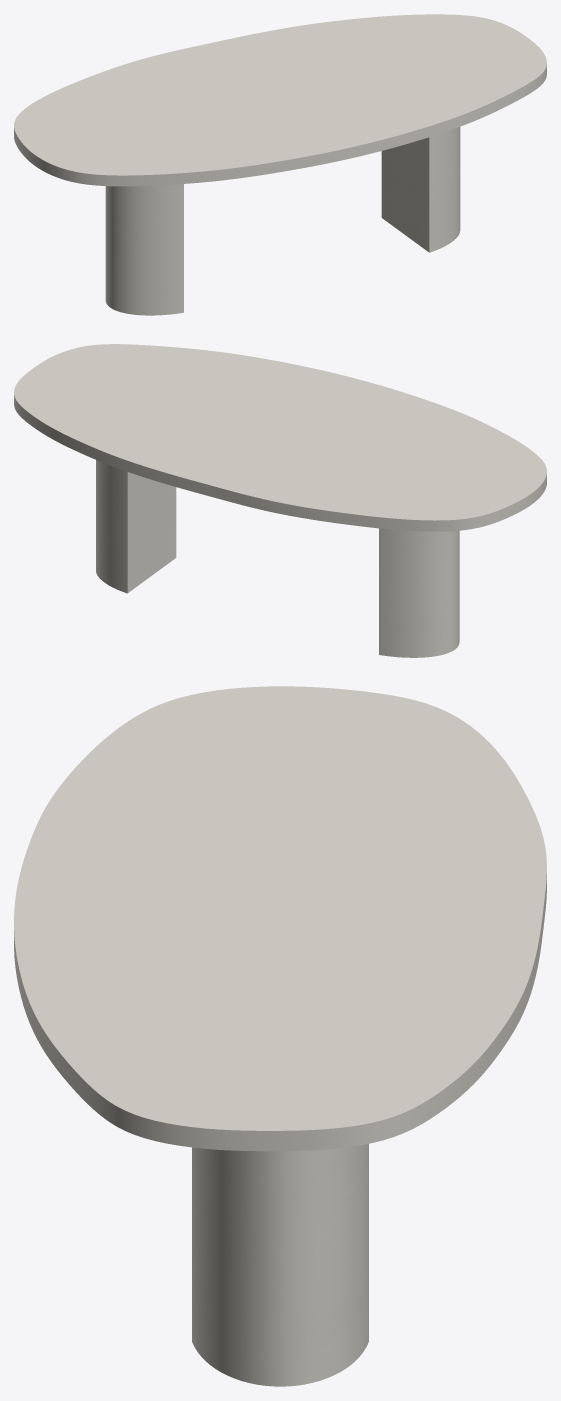
Rendered from pale_danish_standard_hillside.glb.
3 renders of one model, top to bottom at view 1: azimuth 30°, elevation 25°; view 2: azimuth 150°, elevation 25°; view 3: azimuth 270°, elevation 25°, orthographic. The views are drawn at different scales.
Visible parts, largest first — view 1: standard_danish, hillside; view 2: standard_danish, hillside; view 3: standard_danish, hillside.
Boxes of the visible parts, <box> form: standard_danish: <box>14,14,546,186</box>; hillside: <box>105,127,460,315</box>; standard_danish: <box>14,344,546,531</box>; hillside: <box>96,460,459,657</box>; standard_danish: <box>14,686,546,1151</box>; hillside: <box>192,1143,368,1386</box>.
Size of the model in its own units: 7.5 by 2.5 by 3.8.
1 material, 1 textured.
